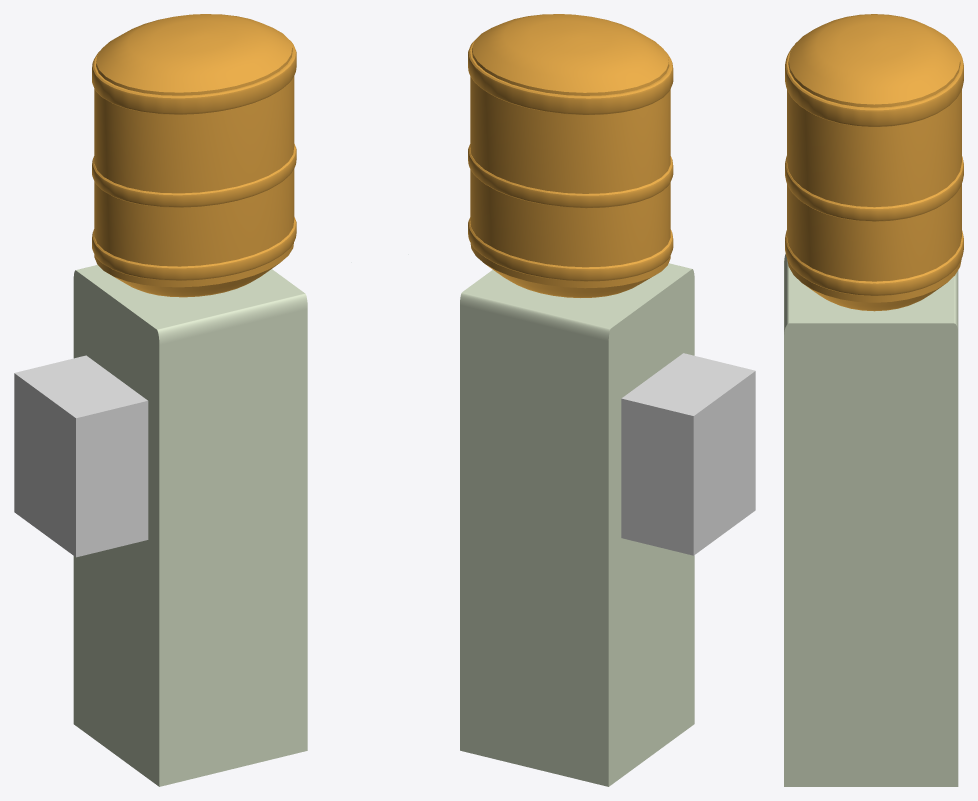
File: DSP 1.glb
3 views of the same model, side by side, from view 1: azimuth 30°, elevation 25°; view 2: azimuth 150°, elevation 25°; view 3: azimuth 270°, elevation 25° (orthographic).
Visible parts, largest first — view 1: Cube.296, Cube.300, Cube.297; view 2: Cube.296, Cube.300, Cube.297; view 3: Cube.296, Cube.300.
Part boxes in pixels (<box>): Cube.296: <box>73,265,307,786</box>; Cube.300: <box>92,14,296,297</box>; Cube.297: <box>14,355,148,557</box>; Cube.296: <box>460,263,694,786</box>; Cube.300: <box>468,14,673,297</box>; Cube.297: <box>621,353,755,555</box>; Cube.296: <box>784,254,958,786</box>; Cube.300: <box>785,14,963,311</box>.
Size of the model in its own units: 2.68 by 5.61 by 1.28.
